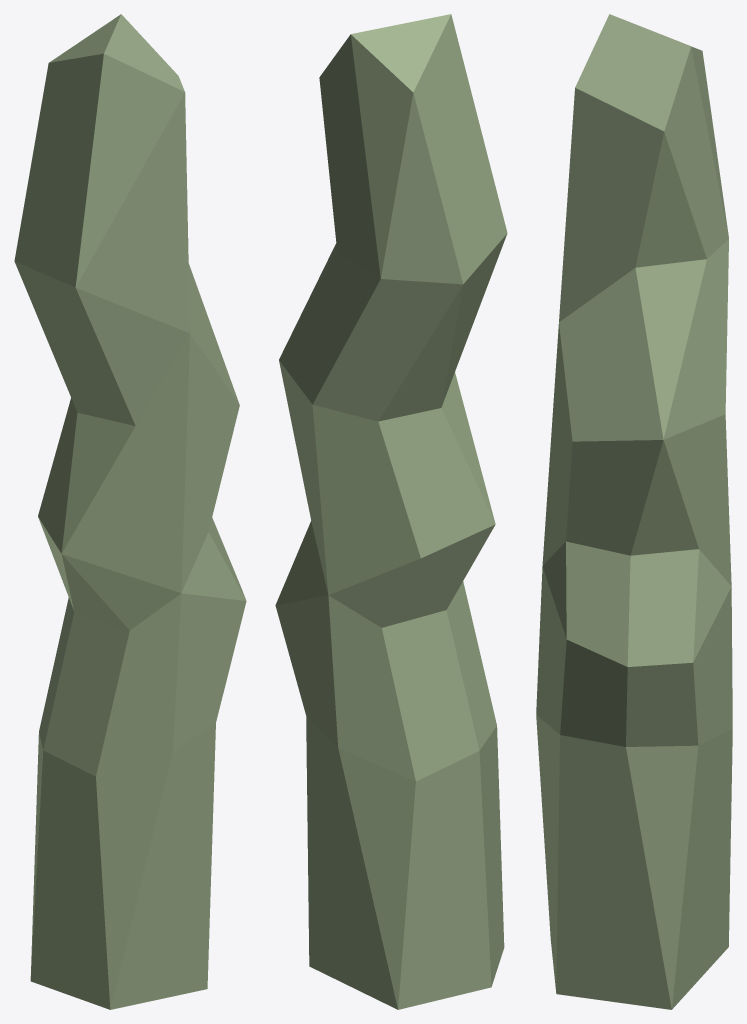
Rendered from EA_Swamp_Grass_03a.glb.
3 views of the same model, side by side, from view 1: azimuth 30°, elevation 25°; view 2: azimuth 150°, elevation 25°; view 3: azimuth 270°, elevation 25° (orthographic). The views are drawn at different scales.
Parts seen in each view (by area): view 1: EA_Swamp_Grass_03a; view 2: EA_Swamp_Grass_03a; view 3: EA_Swamp_Grass_03a.
Part boxes in pixels (x1,y1,x2,y2): EA_Swamp_Grass_03a: (14, 14, 246, 1009); EA_Swamp_Grass_03a: (275, 14, 507, 1009); EA_Swamp_Grass_03a: (536, 14, 732, 1009).
Size of the model in its own units: 0.1597 by 0.7039 by 0.1331.
1 material, 1 textured.
